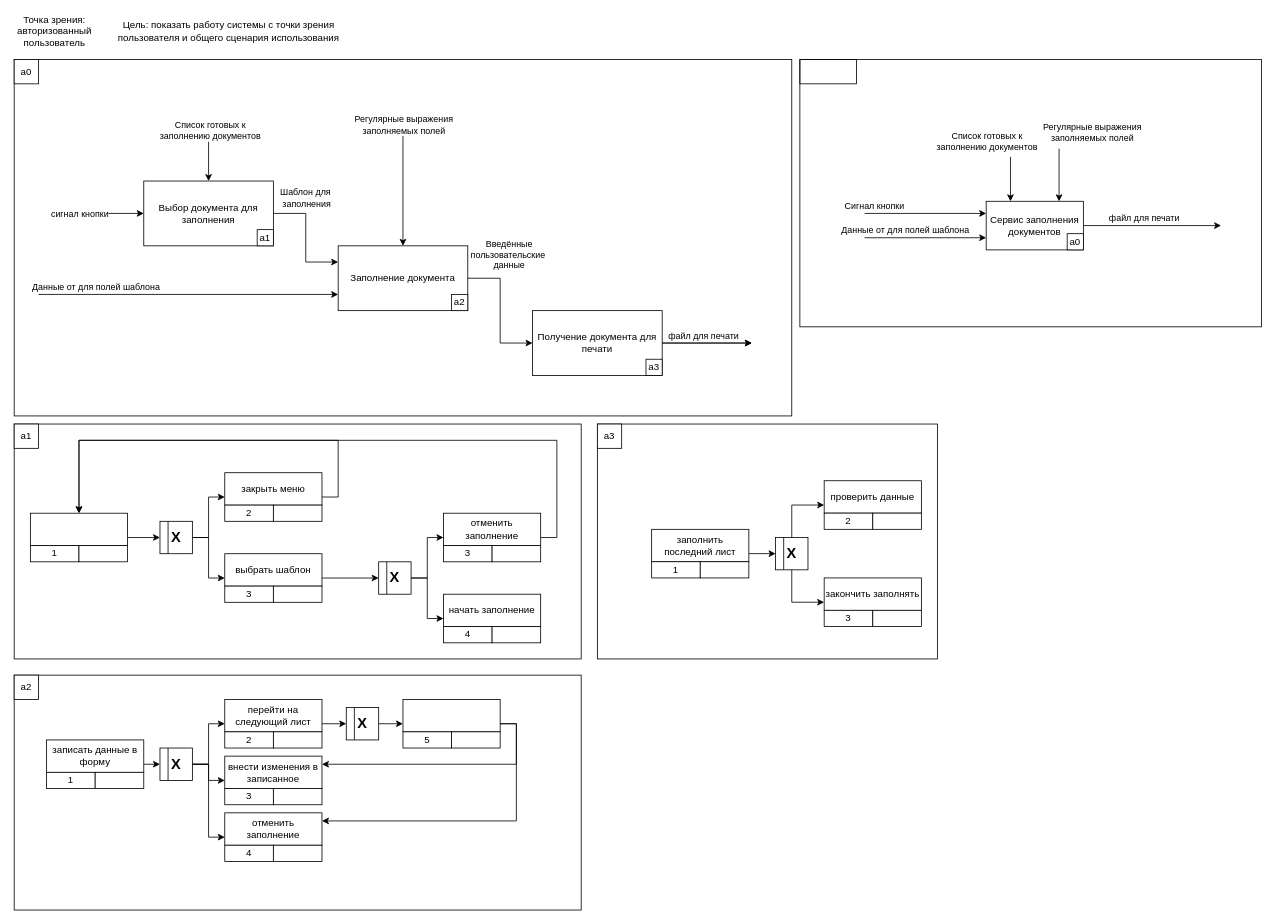
Some shapes in this 1276 by 924 pixel diagram are drawn without their labels. Each missing label, with the centre of its shape:
вернуться на прошлый лист: pixel 451 715
Контекст: pixel 828 71
открыть меню: pixel 79 529
